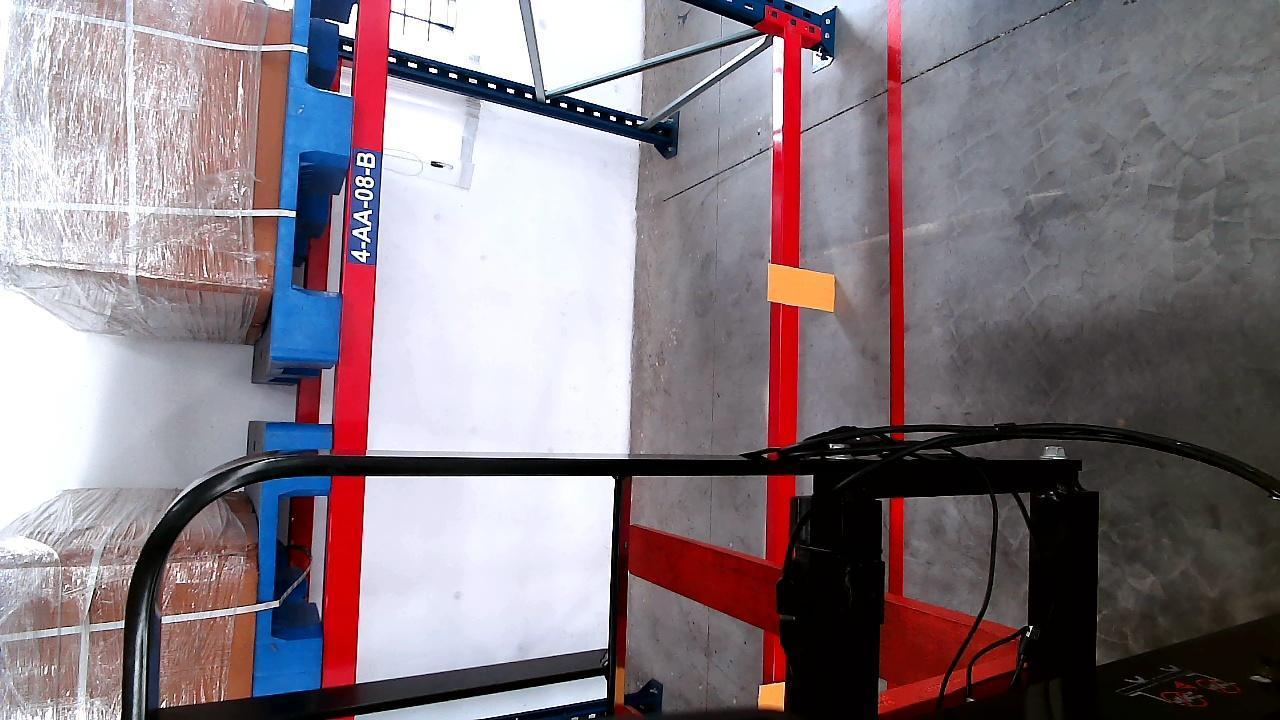h_rack: (323, 0, 389, 689), (769, 28, 807, 573)
orange_strip: (770, 264, 836, 309), (758, 679, 788, 708)
red_line: (884, 1, 904, 597)
small_pallet: (268, 0, 359, 363), (257, 438, 333, 693)
